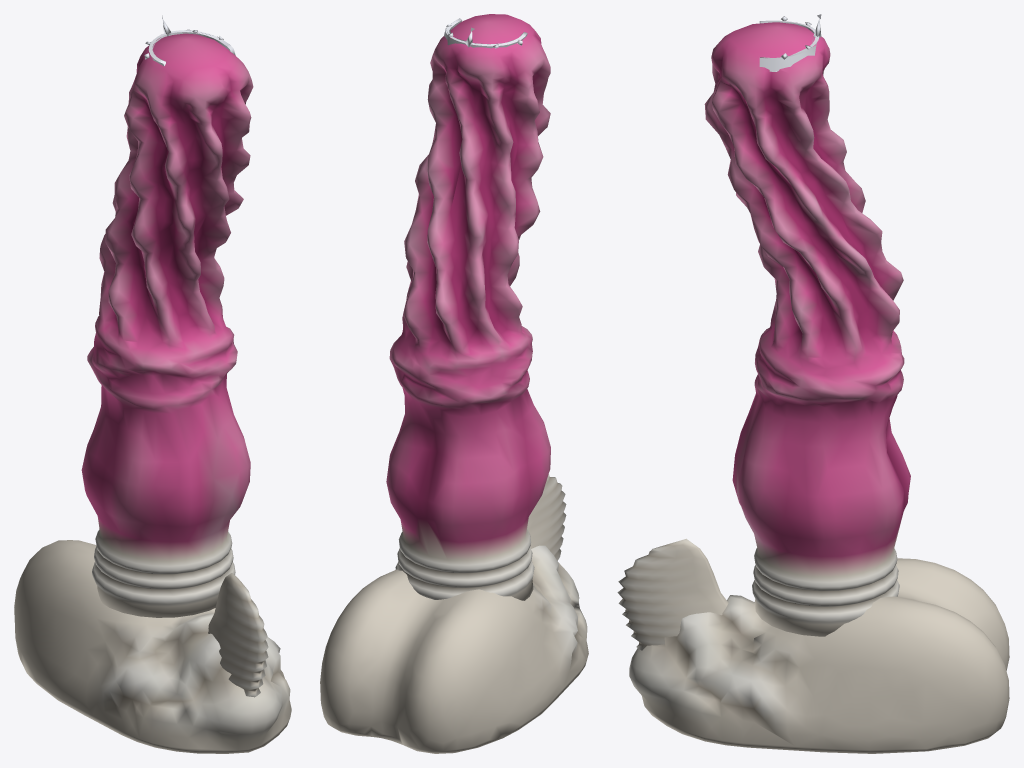
Rendered from chess-queen-lod0.glb.
3 renders of one model, left to right at view 1: azimuth 30°, elevation 25°; view 2: azimuth 150°, elevation 25°; view 3: azimuth 270°, elevation 25°, orthographic. The views are drawn at different scales.
Visible parts, largest first — view 1: queen, tiara; view 2: queen, tiara; view 3: queen, tiara.
Boxes of the visible parts, <box> form: queen: <box>14,33,291,753</box>; tiara: <box>144,15,235,66</box>; queen: <box>320,14,588,753</box>; tiara: <box>444,18,527,48</box>; queen: <box>617,22,1009,753</box>; tiara: <box>759,14,821,71</box>.
Size of the model in its own units: 0.342 by 1.17 by 0.6006.
